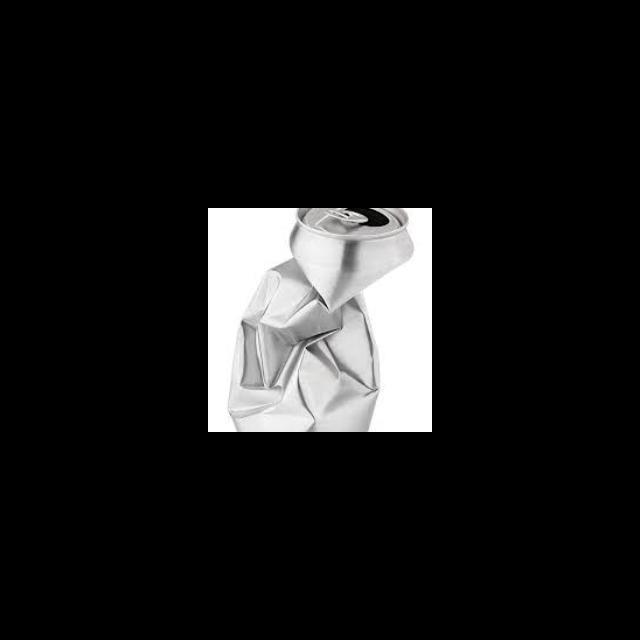metal: (233, 208, 417, 432)
